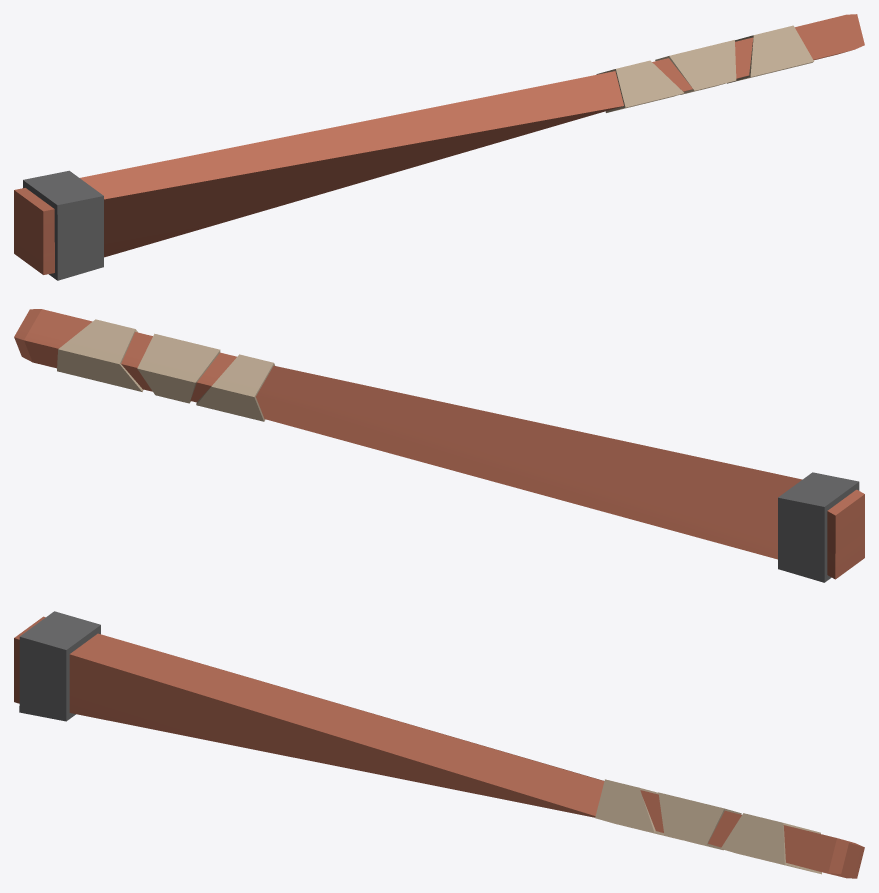
The model's file is Stick_1_Mesh.fbx.
The picture shows the model from 3 angles, top to bottom: view 1: azimuth 30°, elevation 25°; view 2: azimuth 150°, elevation 25°; view 3: azimuth 330°, elevation 25°; orthographic projection.
Parts seen in each view (by area): view 1: Stick; view 2: Stick; view 3: Stick.
Part boxes in pixels (x1,y1,x2,y2): Stick: (14,14,864,280); Stick: (14,309,864,582); Stick: (14,611,864,878).
Bounding box in the file's own units: 254 × 22.27 × 18.63.
Materials: 1 (1 with a texture image).
